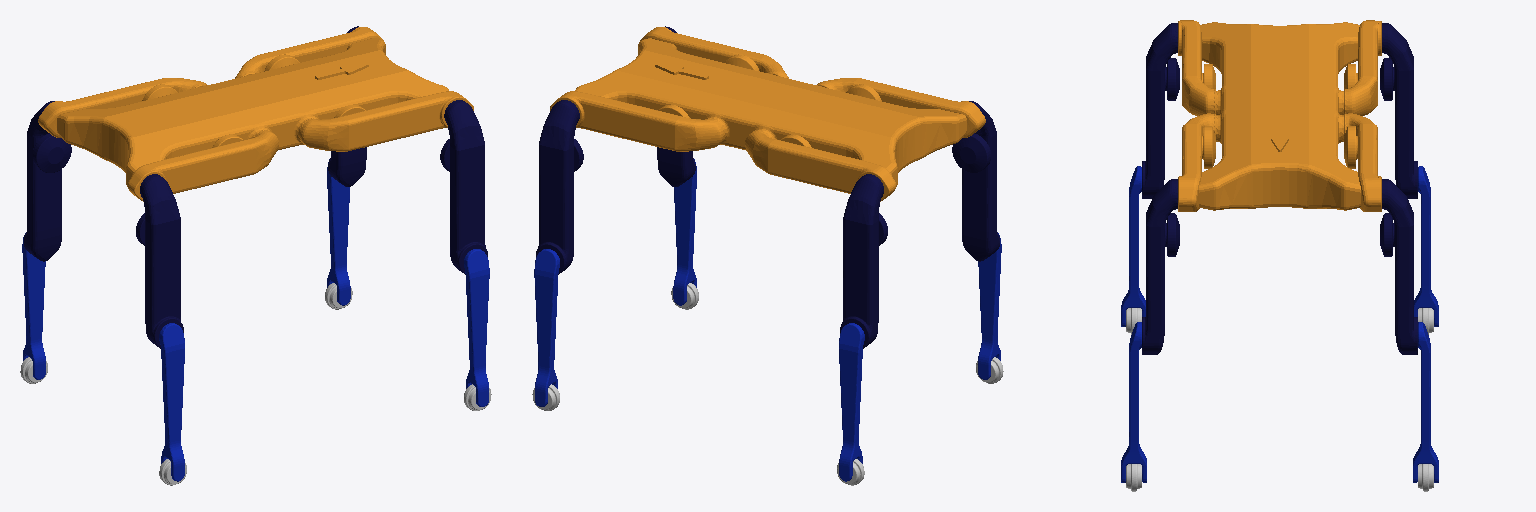
robot.urdf — solo:
<?xml version="1.0" ?>
<!-- =================================================================================== -->
<!-- |    This document was autogenerated by xacro from /usr/local/lib/python3.9/site-packages/robot_properties_solo/resources/xacro/solo8.urdf.xacro | -->
<!-- |    EDITING THIS FILE BY HAND IS NOT RECOMMENDED                                 | -->
<!-- =================================================================================== -->
<robot name="solo" xmlns:controller="http://playerstage.sourceforge.net/gazebo/xmlschema/#controller" xmlns:interface="http://playerstage.sourceforge.net/gazebo/xmlschema/#interface" xmlns:sensor="http://playerstage.sourceforge.net/gazebo/xmlschema/#sensor" xmlns:xacro="http://playerstage.sourceforge.net/gazebo/xmlschema/#interface">
  <!-- This file is based on: https://atlas.is.localnet/confluence/display/AMDW/Quadruped+URDF+Files -->
  <link name="torso_front">
    <!-- BASE LINK INERTIAL -->
    <inertial>
      <origin rpy="0 0 0" xyz="0.1 0 0"/>
      <mass value="0.71657546"/>
      <!-- The base is extremely symmetrical. -->
      <inertia ixx="0.00289287" ixy="0.0" ixz="0.0" iyy="0.00484527" iyz="0.0" izz="0.00619031"/>
    </inertial>
    <!-- BASE LINK VISUAL -->
    <visual>
      <origin rpy="0 0 0" xyz="0.1 0 0"/>
      <geometry>
        <mesh filename="../meshes/solo_torso_front_cen.dae"/>
      </geometry>
      <material name="ftorso_mat">
        <color rgba="0.9 0.6 0.2 1"/>
      </material>
    </visual>
    <!-- BASE LINK COLLISION -->
    <collision>
      <origin rpy="0 0 0" xyz="0.1 0 0"/>
      <geometry>
        <mesh filename="../meshes/solo_torso_front_cen.dae"/>
      </geometry>
    </collision>
    <!-- Bullet specific paramters -->
    <contact>
      <lateral_friction value="1.0"/>
      <restitution value="0.5"/>
    </contact>
  </link>
  <!-- SPIN:Between the torso -->
  <joint name="spine_joint" type="revolute">
    <axis xyz="1 0 0"/>
    <origin xyz="0 0 0"/>
    <parent link="torso_front"/>
    <child link="torso_back"/>
    <limit effort="20.0" lower="-4" upper="4" velocity="10"/>
    <!-- pybullet simulation parameters -->
    <dynamics damping="0.0" friction="0.0"/>
  </joint>
  <link name="torso_back">
    <!-- BASE LINK INERTIAL -->
    <inertial>
      <origin rpy="0 0 0" xyz="-0.1 0 0"/>
      <mass value="0.71657546"/>
      <!-- The base is extremely symmetrical. -->
      <inertia ixx="0.00289287" ixy="0.0" ixz="0.0" iyy="0.00484527" iyz="0.0" izz="0.00619031"/>
    </inertial>
    <!-- BASE LINK VISUAL -->
    <visual>
      <origin rpy="0 0 0" xyz="-0.1 0 0"/>
      <geometry>
        <mesh filename="../meshes/solo_torso_back_cen.dae"/>
      </geometry>
      <material name="btorso_mat">
        <color rgba="0.9 0.6 0.2 1"/>
      </material>
    </visual>
    <!-- BASE LINK COLLISION -->
    <collision>
      <origin rpy="0 0 0" xyz="-0.1 0 0"/>
      <geometry>
        <mesh filename="../meshes/solo_torso_back_cen.dae"/>
      </geometry>
    </collision>
    <!-- Bullet specific paramters -->
    <contact>
      <lateral_friction value="1.0"/>
      <restitution value="0.5"/>
    </contact>
  </link>
  <!-- END BASE LINK -->
  <!-- Joint between the base and the ${prefix} upper leg -->
  <joint name="FL_HFE" type="revolute">
    <parent link="torso_front"/>
    <child link="FL_UPPER_LEG"/>
    <limit effort="2.5" lower="0" upper="1.5707963" velocity="8"/>
    <!-- joints rotates around the y-axis -->
    <axis xyz="0 1 0"/>
    <origin rpy="0 0 0" xyz="0.19 0.1046 0"/>
    <!-- pybullet simulation parameters -->
    <dynamics damping="0.0" friction="0.0"/>
  </joint>
  <link name="FL_UPPER_LEG">
    <!-- Left upper leg inertia -->
    <inertial>
      <origin rpy="0 0 0" xyz="0.00001377 0.01935853 -0.07870700"/>
      <mass value="0.14853845"/>
      <inertia ixx="0.00041107" ixy="0.0" ixz="0.0" iyy="0.00041193" iyz="0.00004671" izz="0.00003024"/>
    </inertial>
    <!-- UPPER LEG LINK VISUAL -->
    <visual>
      <origin rpy="0 0 0" xyz="0 0 0"/>
      <geometry>
        <mesh filename="../meshes/solo_upper_leg_left_side.dae"/>
      </geometry>
      <material name="fthigh_mat">
        <color rgba="0.1 0.1 0.3 1"/>
      </material>
    </visual>
    <!-- UPPER LEG LINK COLLISION -->
    <collision>
      <origin rpy="0 0 0" xyz="0 0 0"/>
      <geometry>
        <mesh filename="../meshes/solo_upper_leg_left_side.dae"/>
      </geometry>
    </collision>
    <!-- Bullet specific paramters -->
    <contact>
      <lateral_friction value="1.0"/>
      <restitution value="0.5"/>
    </contact>
  </link>
  <!-- END UPPER LEG LINK -->
  <!-- KFE: Joint between the upper leg and the lower leg -->
  <joint name="FL_KFE" type="revolute">
    <parent link="FL_UPPER_LEG"/>
    <child link="FL_LOWER_LEG"/>
    <limit effort="2.5" lower="-3.14" upper="0" velocity="8"/>
    <!-- joints rotates around the y-axis -->
    <axis xyz="0 1 0"/>
    <origin rpy="0 0 0" xyz="0 0.037450000000000004 -0.16"/>
    <!-- pybullet simulation parameters -->
    <dynamics damping="0.0" friction="0.0"/>
  </joint>
  <link name="FL_LOWER_LEG">
    <!-- Left lower leg inertia -->
    <inertial>
      <origin rpy="0 0 0" xyz="0.0 0.00787644 -0.08928215"/>
      <mass value="0.03070001"/>
      <inertia ixx="0.00012024" ixy="0.0" ixz="0.0" iyy="0.00012029" iyz="0.00000305" izz="0.00000216"/>
    </inertial>
    <!-- LOWER LEG LINK VISUAL -->
    <visual>
      <origin rpy="0 0 0" xyz="0 0 0"/>
      <geometry>
        <mesh filename="../meshes/solo_lower_leg_left_side.dae"/>
      </geometry>
      <material name="fshin_mat">
        <color rgba="0.1 0.2 0.7 0.4"/>
      </material>
    </visual>
    <!-- LOWER LEG LINK COLLISION -->
    <collision>
      <origin rpy="0 0 0" xyz="0 0 0"/>
      <geometry>
        <mesh filename="../meshes/solo_lower_leg_left_side.dae"/>
      </geometry>
    </collision>
    <!-- Bullet specific paramters -->
    <contact>
      <lateral_friction value="1.0"/>
      <restitution value="0.5"/>
    </contact>
  </link>
  <!-- END LOWER LEG LINK -->
  <!-- KFE: Joint between the upper leg and the lower leg -->
  <joint name="FL_ANKLE" type="fixed">
    <parent link="FL_LOWER_LEG"/>
    <child link="FL_FOOT"/>
    <origin rpy="0 0 0" xyz="0 0.008 -0.16"/>
    <!-- pybullet simulation parameters -->
    <dynamics damping="0.0" friction="0.0"/>
  </joint>
  <link name="FL_FOOT">
    <!-- FOOT INERTIAL -->
    <!-- This link is symmetrical left or right -->
    <inertial>
      <origin rpy="0 0 0" xyz="0 0 0.00035767"/>
      <mass value="0.00693606"/>
      <inertia ixx="0.00000057" ixy="0.0" ixz="0.0" iyy="0.00000084" iyz="0.0" izz="0.00000053"/>
    </inertial>
    <!-- FOOT VISUAL -->
    <visual>
      <origin rpy="0 0 0" xyz="0 0 0"/>
      <geometry>
        <mesh filename="../meshes/solo_foot.dae"/>
      </geometry>
      <material name="grey">
        <color rgba="0.8 0.8 0.8 1.0"/>
      </material>
    </visual>
    <!-- FOOT COLLISION -->
    <collision>
      <origin rpy="0 0 0" xyz="0 0 0"/>
      <geometry>
        <mesh filename="../meshes/solo_foot.dae"/>
      </geometry>
    </collision>
    <!-- Bullet specific paramters -->
    <contact>
      <lateral_friction value="1.0"/>
      <restitution value="0.5"/>
    </contact>
  </link>
  <!-- END LOWER LEG LINK -->
  <!-- Joint between the base and the ${prefix} upper leg -->
  <joint name="FR_HFE" type="revolute">
    <parent link="torso_front"/>
    <child link="FR_UPPER_LEG"/>
    <limit effort="2.5" lower="0" upper="1.5707963" velocity="8"/>
    <!-- joints rotates around the y-axis -->
    <axis xyz="0 1 0"/>
    <origin rpy="0 0 0" xyz="0.19 -0.1046 0"/>
    <!-- pybullet simulation parameters -->
    <dynamics damping="0.0" friction="0.0"/>
  </joint>
  <link name="FR_UPPER_LEG">
    <!-- Right upper leg inertia -->
    <inertial>
      <origin rpy="0 0 0" xyz="-0.00001377 -0.01935853 -0.07870700"/>
      <mass value="0.14853845"/>
      <inertia ixx="0.00041107" ixy="0.0" ixz="0.0" iyy="0.00041193" iyz="-0.00004671" izz="0.00003024"/>
    </inertial>
    <!-- UPPER LEG LINK VISUAL -->
    <visual>
      <origin rpy="0 0 0" xyz="0 0 0"/>
      <geometry>
        <mesh filename="../meshes/solo_upper_leg_right_side.dae"/>
      </geometry>
      <material name="fthigh_mat">
        <color rgba="0.1 0.1 0.3 1"/>
      </material>
    </visual>
    <!-- UPPER LEG LINK COLLISION -->
    <collision>
      <origin rpy="0 0 0" xyz="0 0 0"/>
      <geometry>
        <mesh filename="../meshes/solo_upper_leg_right_side.dae"/>
      </geometry>
    </collision>
    <!-- Bullet specific paramters -->
    <contact>
      <lateral_friction value="1.0"/>
      <restitution value="0.5"/>
    </contact>
  </link>
  <!-- END UPPER LEG LINK -->
  <!-- KFE: Joint between the upper leg and the lower leg -->
  <joint name="FR_KFE" type="revolute">
    <parent link="FR_UPPER_LEG"/>
    <child link="FR_LOWER_LEG"/>
    <limit effort="2.5" lower="-3.14" upper="0" velocity="8"/>
    <!-- joints rotates around the y-axis -->
    <axis xyz="0 1 0"/>
    <origin rpy="0 0 0" xyz="0 -0.037450000000000004 -0.16"/>
    <!-- pybullet simulation parameters -->
    <dynamics damping="0.0" friction="0.0"/>
  </joint>
  <link name="FR_LOWER_LEG">
    <!-- Right lower leg inertia -->
    <inertial>
      <origin rpy="0 0 0" xyz="0.0 0.00787644 -0.08928215"/>
      <mass value="0.03070001"/>
      <inertia ixx="0.00012024" ixy="0.0" ixz="0.0" iyy="0.00012029" iyz="-0.00000305" izz="0.00000216"/>
    </inertial>
    <!-- LOWER LEG LINK VISUAL -->
    <visual>
      <origin rpy="0 0 0" xyz="0 0 0"/>
      <geometry>
        <mesh filename="../meshes/solo_lower_leg_right_side.dae"/>
      </geometry>
      <material name="fshin_mat">
        <color rgba="0.1 0.2 0.7 0.4"/>
      </material>
    </visual>
    <!-- LOWER LEG LINK COLLISION -->
    <collision>
      <origin rpy="0 0 0" xyz="0 0 0"/>
      <geometry>
        <mesh filename="../meshes/solo_lower_leg_right_side.dae"/>
      </geometry>
    </collision>
    <!-- Bullet specific paramters -->
    <contact>
      <lateral_friction value="1.0"/>
      <restitution value="0.5"/>
    </contact>
  </link>
  <!-- END LOWER LEG LINK -->
  <!-- KFE: Joint between the upper leg and the lower leg -->
  <joint name="FR_ANKLE" type="fixed">
    <parent link="FR_LOWER_LEG"/>
    <child link="FR_FOOT"/>
    <origin rpy="0 0 0" xyz="0 -0.008 -0.16"/>
    <!-- pybullet simulation parameters -->
    <dynamics damping="0.0" friction="0.0"/>
  </joint>
  <link name="FR_FOOT">
    <!-- FOOT INERTIAL -->
    <!-- This link is symmetrical left or right -->
    <inertial>
      <origin rpy="0 0 0" xyz="0 0 0.00035767"/>
      <mass value="0.00693606"/>
      <inertia ixx="0.00000057" ixy="0.0" ixz="0.0" iyy="0.00000084" iyz="0.0" izz="0.00000053"/>
    </inertial>
    <!-- FOOT VISUAL -->
    <visual>
      <origin rpy="0 0 0" xyz="0 0 0"/>
      <geometry>
        <mesh filename="../meshes/solo_foot.dae"/>
      </geometry>
      <material name="grey">
        <color rgba="0.8 0.8 0.8 1.0"/>
      </material>
    </visual>
    <!-- FOOT COLLISION -->
    <collision>
      <origin rpy="0 0 0" xyz="0 0 0"/>
      <geometry>
        <mesh filename="../meshes/solo_foot.dae"/>
      </geometry>
    </collision>
    <!-- Bullet specific paramters -->
    <contact>
      <lateral_friction value="1.0"/>
      <restitution value="0.5"/>
    </contact>
  </link>
  <!-- END LOWER LEG LINK -->
  <!-- Joint between the base and the ${prefix} upper leg -->
  <joint name="HL_HFE" type="revolute">
    <parent link="torso_back"/>
    <child link="HL_UPPER_LEG"/>
    <limit effort="2.5" lower="0" upper="1.5707963" velocity="8"/>
    <!-- joints rotates around the y-axis -->
    <axis xyz="0 1 0"/>
    <origin rpy="0 0 0" xyz="-0.19 0.1046 0"/>
    <!-- pybullet simulation parameters -->
    <dynamics damping="0.0" friction="0.0"/>
  </joint>
  <link name="HL_UPPER_LEG">
    <!-- Left upper leg inertia -->
    <inertial>
      <origin rpy="0 0 0" xyz="0.00001377 0.01935853 -0.07870700"/>
      <mass value="0.14853845"/>
      <inertia ixx="0.00041107" ixy="0.0" ixz="0.0" iyy="0.00041193" iyz="0.00004671" izz="0.00003024"/>
    </inertial>
    <!-- UPPER LEG LINK VISUAL -->
    <visual>
      <origin rpy="0 0 0" xyz="0 0 0"/>
      <geometry>
        <mesh filename="../meshes/solo_upper_leg_left_side.dae"/>
      </geometry>
      <material name="bthigh_mat">
        <color rgba="0.1 0.1 0.3 1"/>
      </material>
    </visual>
    <!-- UPPER LEG LINK COLLISION -->
    <collision>
      <origin rpy="0 0 0" xyz="0 0 0"/>
      <geometry>
        <mesh filename="../meshes/solo_upper_leg_left_side.dae"/>
      </geometry>
    </collision>
    <!-- Bullet specific paramters -->
    <contact>
      <lateral_friction value="1.0"/>
      <restitution value="0.5"/>
    </contact>
  </link>
  <!-- END UPPER LEG LINK -->
  <!-- KFE: Joint between the upper leg and the lower leg -->
  <joint name="HL_KFE" type="revolute">
    <parent link="HL_UPPER_LEG"/>
    <child link="HL_LOWER_LEG"/>
    <limit effort="2.5" lower="-3.14" upper="0" velocity="8"/>
    <!-- joints rotates around the y-axis -->
    <axis xyz="0 1 0"/>
    <origin rpy="0 0 0" xyz="0 0.037450000000000004 -0.16"/>
    <!-- pybullet simulation parameters -->
    <dynamics damping="0.0" friction="0.0"/>
  </joint>
  <link name="HL_LOWER_LEG">
    <!-- Left lower leg inertia -->
    <inertial>
      <origin rpy="0 0 0" xyz="0.0 0.00787644 -0.08928215"/>
      <mass value="0.03070001"/>
      <inertia ixx="0.00012024" ixy="0.0" ixz="0.0" iyy="0.00012029" iyz="0.00000305" izz="0.00000216"/>
    </inertial>
    <!-- LOWER LEG LINK VISUAL -->
    <visual>
      <origin rpy="0 0 0" xyz="0 0 0"/>
      <geometry>
        <mesh filename="../meshes/solo_lower_leg_left_side.dae"/>
      </geometry>
      <material name="bshin_mat">
        <color rgba="0.1 0.2 0.7 0.4"/>
      </material>
    </visual>
    <!-- LOWER LEG LINK COLLISION -->
    <collision>
      <origin rpy="0 0 0" xyz="0 0 0"/>
      <geometry>
        <mesh filename="../meshes/solo_lower_leg_left_side.dae"/>
      </geometry>
    </collision>
    <!-- Bullet specific paramters -->
    <contact>
      <lateral_friction value="1.0"/>
      <restitution value="0.5"/>
    </contact>
  </link>
  <!-- END LOWER LEG LINK -->
  <!-- KFE: Joint between the upper leg and the lower leg -->
  <joint name="HL_ANKLE" type="fixed">
    <parent link="HL_LOWER_LEG"/>
    <child link="HL_FOOT"/>
    <origin rpy="0 0 0" xyz="0 0.008 -0.16"/>
    <!-- pybullet simulation parameters -->
    <dynamics damping="0.0" friction="0.0"/>
  </joint>
  <link name="HL_FOOT">
    <!-- FOOT INERTIAL -->
    <!-- This link is symmetrical left or right -->
    <inertial>
      <origin rpy="0 0 0" xyz="0 0 0.00035767"/>
      <mass value="0.00693606"/>
      <inertia ixx="0.00000057" ixy="0.0" ixz="0.0" iyy="0.00000084" iyz="0.0" izz="0.00000053"/>
    </inertial>
    <!-- FOOT VISUAL -->
    <visual>
      <origin rpy="0 0 0" xyz="0 0 0"/>
      <geometry>
        <mesh filename="../meshes/solo_foot.dae"/>
      </geometry>
      <material name="grey">
        <color rgba="0.8 0.8 0.8 1.0"/>
      </material>
    </visual>
    <!-- FOOT COLLISION -->
    <collision>
      <origin rpy="0 0 0" xyz="0 0 0"/>
      <geometry>
        <mesh filename="../meshes/solo_foot.dae"/>
      </geometry>
    </collision>
    <!-- Bullet specific paramters -->
    <contact>
      <lateral_friction value="1.0"/>
      <restitution value="0.5"/>
    </contact>
  </link>
  <!-- END LOWER LEG LINK -->
  <!-- Joint between the base and the ${prefix} upper leg -->
  <joint name="HR_HFE" type="revolute">
    <parent link="torso_back"/>
    <child link="HR_UPPER_LEG"/>
    <!-- joints rotates around the y-axis -->
    <limit effort="2.5" lower="0" upper="1.5707963" velocity="8"/>
    <axis xyz="0 1 0"/>
    <origin rpy="0 0 0" xyz="-0.19 -0.1046 0"/>
    <!-- pybullet simulation parameters -->
    <dynamics damping="0.0" friction="0.0"/>
  </joint>
  <link name="HR_UPPER_LEG">
    <!-- Right upper leg inertia -->
    <inertial>
      <origin rpy="0 0 0" xyz="-0.00001377 -0.01935853 -0.07870700"/>
      <mass value="0.14853845"/>
      <inertia ixx="0.00041107" ixy="0.0" ixz="0.0" iyy="0.00041193" iyz="-0.00004671" izz="0.00003024"/>
    </inertial>
    <!-- UPPER LEG LINK VISUAL -->
    <visual>
      <origin rpy="0 0 0" xyz="0 0 0"/>
      <geometry>
        <mesh filename="../meshes/solo_upper_leg_right_side.dae"/>
      </geometry>
      <material name="bthigh_mat">
        <color rgba="0.1 0.1 0.3 1"/>
      </material>
    </visual>
    <!-- UPPER LEG LINK COLLISION -->
    <collision>
      <origin rpy="0 0 0" xyz="0 0 0"/>
      <geometry>
        <mesh filename="../meshes/solo_upper_leg_right_side.dae"/>
      </geometry>
    </collision>
    <!-- Bullet specific paramters -->
    <contact>
      <lateral_friction value="1.0"/>
      <restitution value="0.5"/>
    </contact>
  </link>
  <!-- END UPPER LEG LINK -->
  <!-- KFE: Joint between the upper leg and the lower leg -->
  <joint name="HR_KFE" type="revolute">
    <parent link="HR_UPPER_LEG"/>
    <child link="HR_LOWER_LEG"/>
    <limit effort="2.5" lower="-3.14" upper="0" velocity="8"/>
    <!-- joints rotates around the y-axis -->
    <axis xyz="0 1 0"/>
    <origin rpy="0 0 0" xyz="0 -0.037450000000000004 -0.16"/>
    <!-- pybullet simulation parameters -->
    <dynamics damping="0.0" friction="0.0"/>
  </joint>
  <link name="HR_LOWER_LEG">
    <!-- Right lower leg inertia -->
    <inertial>
      <origin rpy="0 0 0" xyz="0.0 0.00787644 -0.08928215"/>
      <mass value="0.03070001"/>
      <inertia ixx="0.00012024" ixy="0.0" ixz="0.0" iyy="0.00012029" iyz="-0.00000305" izz="0.00000216"/>
    </inertial>
    <!-- LOWER LEG LINK VISUAL -->
    <visual>
      <origin rpy="0 0 0" xyz="0 0 0"/>
      <geometry>
        <mesh filename="../meshes/solo_lower_leg_right_side.dae"/>
      </geometry>
      <material name="bshin_mat">
        <color rgba="0.1 0.2 0.7 0.4"/>
      </material>
    </visual>
    <!-- LOWER LEG LINK COLLISION -->
    <collision>
      <origin rpy="0 0 0" xyz="0 0 0"/>
      <geometry>
        <mesh filename="../meshes/solo_lower_leg_right_side.dae"/>
      </geometry>
    </collision>
    <!-- Bullet specific paramters -->
    <contact>
      <lateral_friction value="1.0"/>
      <restitution value="0.5"/>
    </contact>
  </link>
  <!-- END LOWER LEG LINK -->
  <!-- KFE: Joint between the upper leg and the lower leg -->
  <joint name="HR_ANKLE" type="fixed">
    <parent link="HR_LOWER_LEG"/>
    <child link="HR_FOOT"/>
    <origin rpy="0 0 0" xyz="0 -0.008 -0.16"/>
    <!-- pybullet simulation parameters -->
    <dynamics damping="0.0" friction="0.0"/>
  </joint>
  <link name="HR_FOOT">
    <!-- FOOT INERTIAL -->
    <!-- This link is symmetrical left or right -->
    <inertial>
      <origin rpy="0 0 0" xyz="0 0 0.00035767"/>
      <mass value="0.00693606"/>
      <inertia ixx="0.00000057" ixy="0.0" ixz="0.0" iyy="0.00000084" iyz="0.0" izz="0.00000053"/>
    </inertial>
    <!-- FOOT VISUAL -->
    <visual>
      <origin rpy="0 0 0" xyz="0 0 0"/>
      <geometry>
        <mesh filename="../meshes/solo_foot.dae"/>
      </geometry>
      <material name="grey">
        <color rgba="0.8 0.8 0.8 1.0"/>
      </material>
    </visual>
    <!-- FOOT COLLISION -->
    <collision>
      <origin rpy="0 0 0" xyz="0 0 0"/>
      <geometry>
        <mesh filename="../meshes/solo_foot.dae"/>
      </geometry>
    </collision>
    <!-- Bullet specific paramters -->
    <contact>
      <lateral_friction value="1.0"/>
      <restitution value="0.5"/>
    </contact>
  </link>
  <!-- END LOWER LEG LINK -->
</robot>

--- What the picture shows (computed from the rendered views, not written in the file) ---
3 views of the same robot in one strip: view 1: azimuth 30°, elevation 25°; view 2: azimuth 150°, elevation 25°; view 3: azimuth 270°, elevation 25° (orthographic).
Robot: solo — 14 links, 13 joints (9 revolute, 4 fixed); root link torso_front; default pose: all joints at 0.
Visible links, largest first — view 1: torso_back, torso_front, HR_UPPER_LEG, FR_UPPER_LEG, HL_UPPER_LEG, HR_LOWER_LEG, FR_LOWER_LEG, FL_LOWER_LEG, HL_LOWER_LEG, FL_UPPER_LEG; view 2: torso_back, torso_front, HL_UPPER_LEG, FL_UPPER_LEG, HR_UPPER_LEG, HL_LOWER_LEG, FL_LOWER_LEG, FR_LOWER_LEG, HR_LOWER_LEG, FR_UPPER_LEG; view 3: torso_front, torso_back, FL_UPPER_LEG, FR_UPPER_LEG, HL_UPPER_LEG, HR_UPPER_LEG, FL_LOWER_LEG, FR_LOWER_LEG, HL_LOWER_LEG, HR_LOWER_LEG.
Boxes of the visible links, x1,y1,x2,y2 form: torso_back: (38,78,283,201); torso_front: (232,27,473,151); HR_UPPER_LEG: (136,174,183,348); FR_UPPER_LEG: (440,100,487,274); HL_UPPER_LEG: (24,101,71,261); HR_LOWER_LEG: (159,323,184,481); FR_LOWER_LEG: (464,249,489,406); FL_LOWER_LEG: (327,159,350,305); HL_LOWER_LEG: (22,233,45,379); FL_UPPER_LEG: (328,26,366,186); torso_back: (740,78,985,201); torso_front: (550,27,791,151); HL_UPPER_LEG: (840,174,887,348); FL_UPPER_LEG: (536,100,583,274); HR_UPPER_LEG: (952,101,999,261); HL_LOWER_LEG: (839,323,864,481); FL_LOWER_LEG: (534,249,559,406); FR_LOWER_LEG: (673,159,696,305); HR_LOWER_LEG: (978,233,1001,379); FR_UPPER_LEG: (657,26,695,186); torso_front: (1178,94,1381,211); torso_back: (1178,20,1381,115); FL_UPPER_LEG: (1380,179,1417,354); FR_UPPER_LEG: (1142,179,1179,354); HL_UPPER_LEG: (1380,23,1417,198); HR_UPPER_LEG: (1142,23,1179,198); FL_LOWER_LEG: (1413,322,1438,482); FR_LOWER_LEG: (1121,322,1146,482); HL_LOWER_LEG: (1414,166,1438,326); HR_LOWER_LEG: (1121,166,1145,326).
Size in the robot's own frame: 0.4244 by 0.327 by 0.364 metres.
14 mesh visuals loaded from 7 distinct referenced files (7 Collada DAE).
